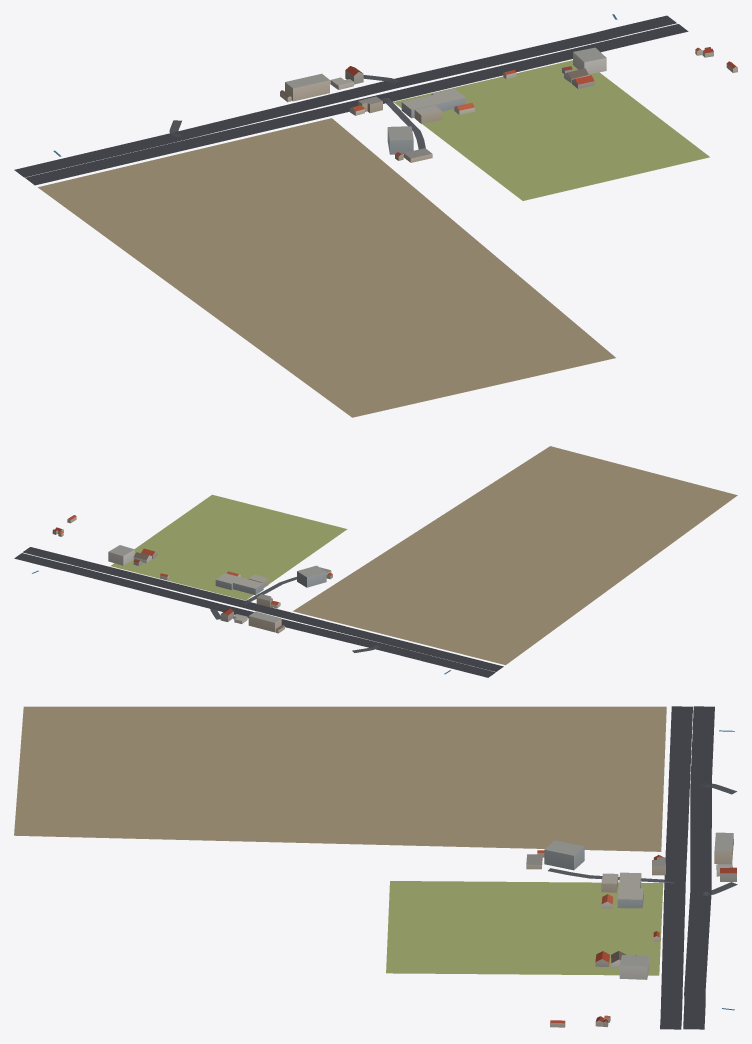
3 renders of one model, top to bottom at view 1: azimuth 30°, elevation 25°; view 2: azimuth 150°, elevation 25°; view 3: azimuth 270°, elevation 25°, orthographic. The views are drawn at different scales.
Visible parts, largest first — view 1: landuse, roads, buildings_walls, buildings_roofs; view 2: landuse, roads, buildings_walls, buildings_roofs; view 3: landuse, roads, buildings_roofs, buildings_walls.
Boxes of the visible parts, bbox=[...] form: landuse: bbox=[38, 60, 709, 417]; roads: bbox=[14, 15, 688, 185]; buildings_walls: bbox=[280, 48, 737, 162]; buildings_roofs: bbox=[280, 47, 737, 158]; landuse: bbox=[110, 446, 737, 665]; roads: bbox=[14, 547, 503, 677]; buildings_walls: bbox=[52, 516, 332, 633]; buildings_roofs: bbox=[53, 515, 332, 629]; landuse: bbox=[14, 706, 666, 975]; roads: bbox=[548, 706, 737, 1029]; buildings_roofs: bbox=[526, 832, 736, 1023]; buildings_walls: bbox=[526, 833, 736, 1027].
Bounding box in the file's own units: 500 × 10.51 × 474.
